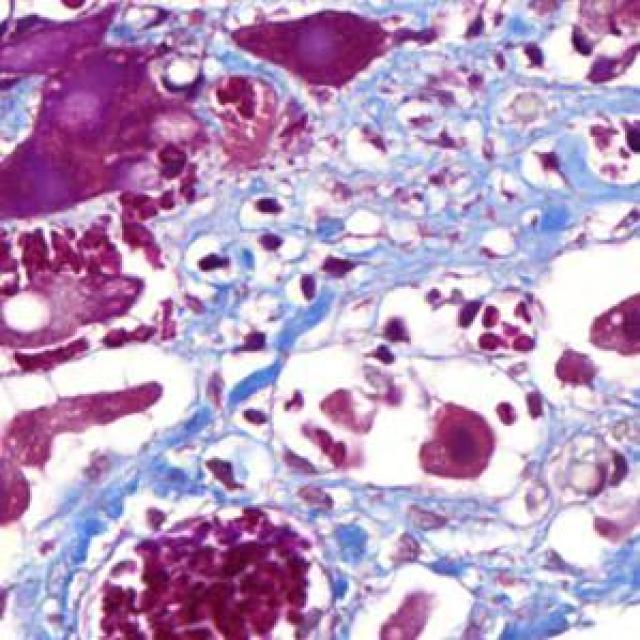steatosis: (0, 289, 58, 334)
